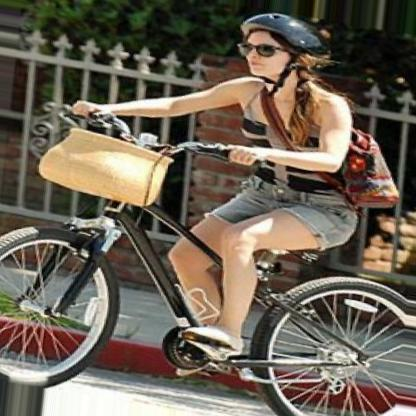with helmet: (236, 13, 333, 83)
